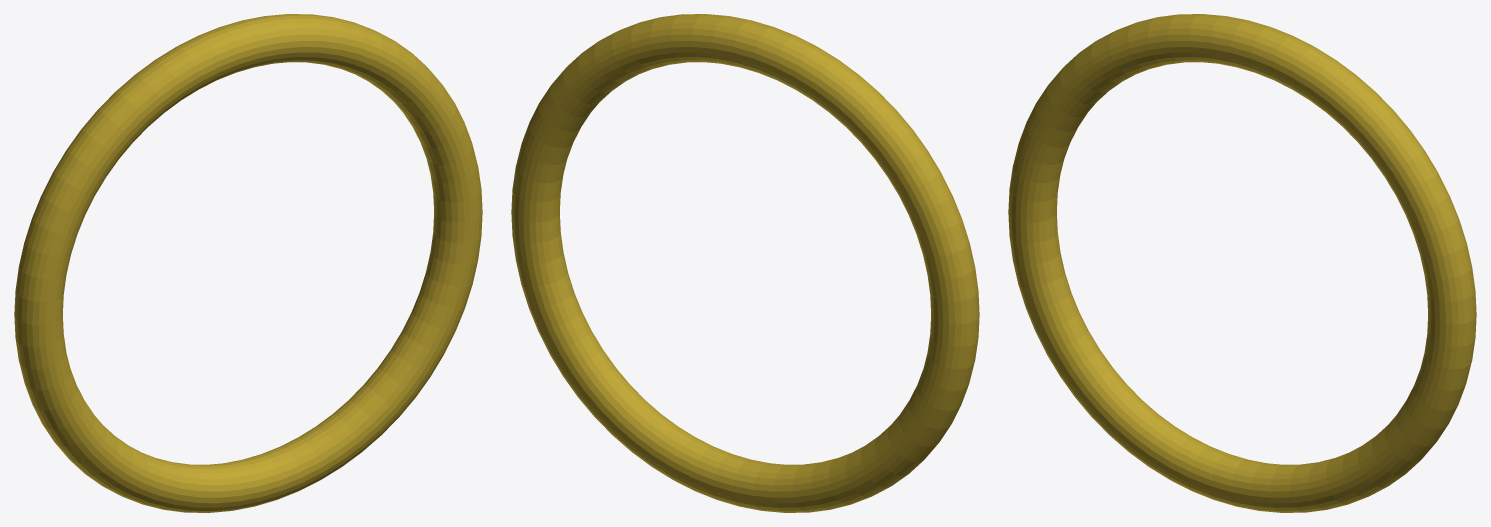
File: bracelet.glb
3 views of the same model, side by side, from view 1: azimuth 30°, elevation 25°; view 2: azimuth 150°, elevation 25°; view 3: azimuth 330°, elevation 25° (orthographic).
Visible parts, largest first — view 1: world; view 2: world; view 3: world.
Part boxes in pixels (bbox=[...]): world: bbox=[14, 14, 482, 512]; world: bbox=[511, 14, 979, 512]; world: bbox=[1008, 14, 1476, 512].
Bounding box in the file's own units: 4.4 × 4.4 × 0.4.
